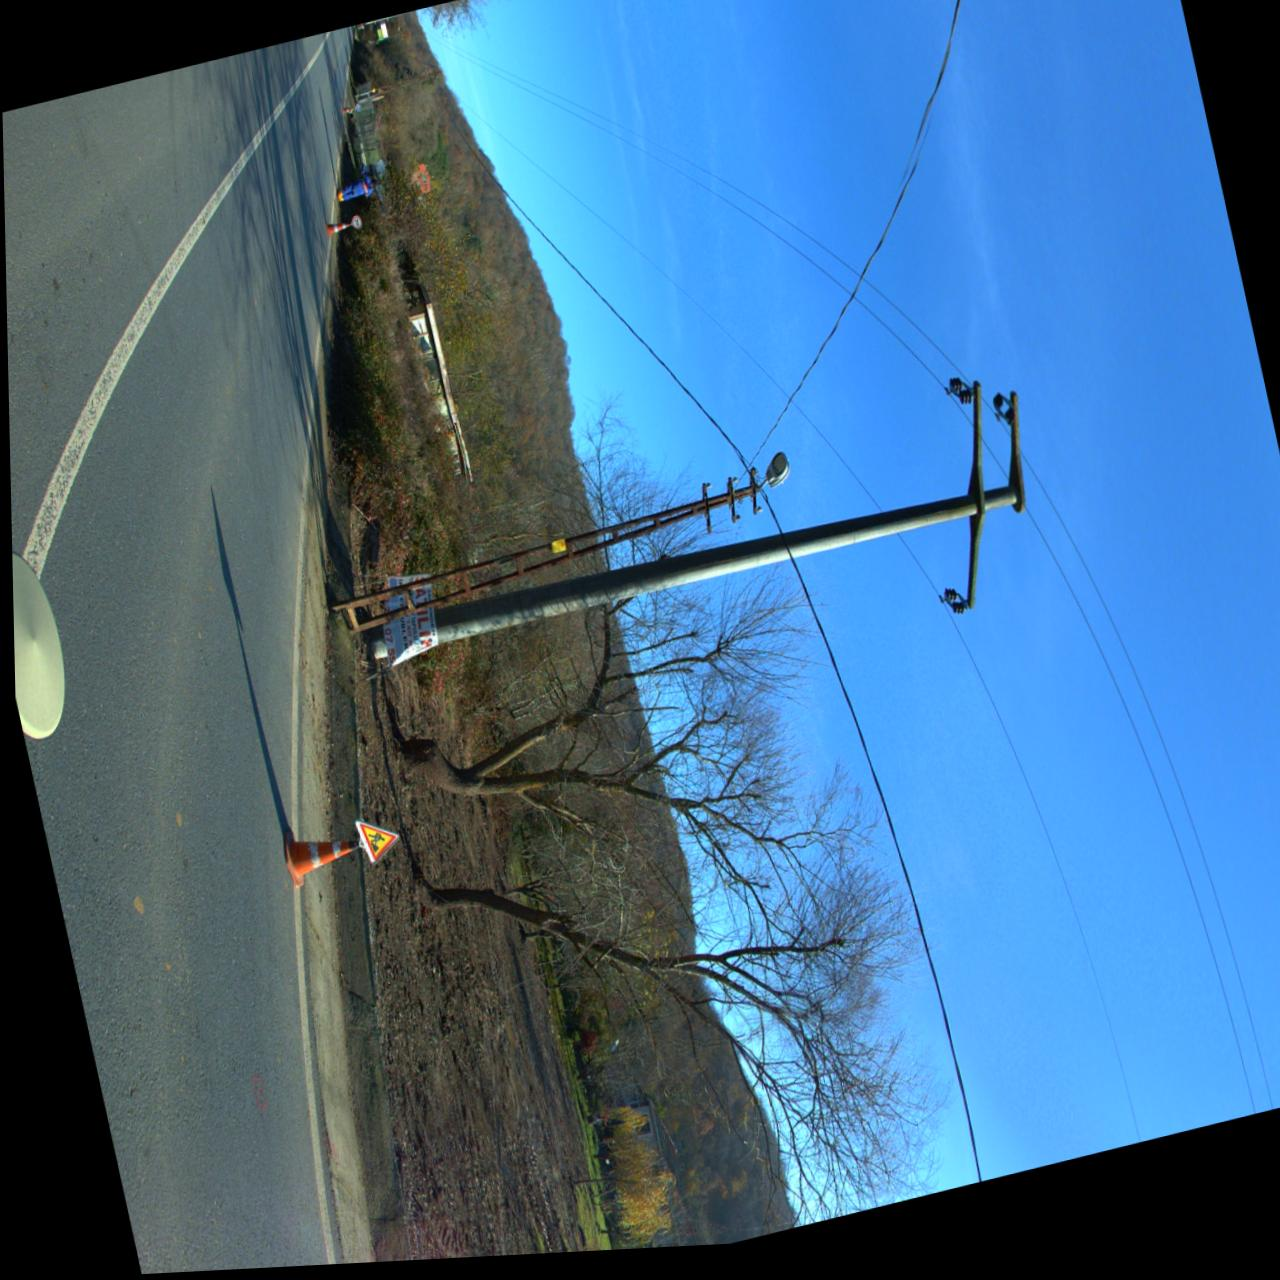Utility Pole Information Plate: (549, 544, 563, 559)
